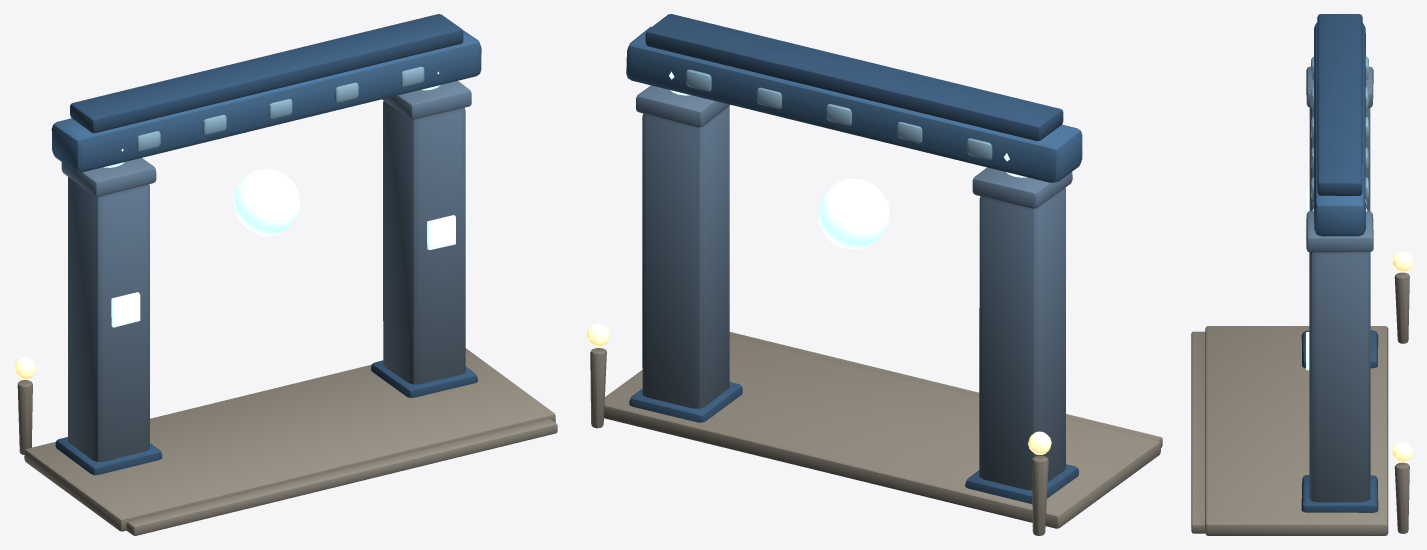
The picture shows the model from 3 angles, left to right: view 1: azimuth 30°, elevation 25°; view 2: azimuth 150°, elevation 25°; view 3: azimuth 270°, elevation 25°; orthographic projection. The views are drawn at different scales.
Visible parts, largest first — view 1: gate_7fbb0834; view 2: gate_7fbb0834; view 3: gate_7fbb0834.
Boxes of the visible parts, x1,y1,x2,y2 form: gate_7fbb0834: (14, 14, 557, 535); gate_7fbb0834: (586, 14, 1162, 535); gate_7fbb0834: (1191, 14, 1412, 535).
Size of the model in its own units: 5.42 by 4.31 by 2.54.
